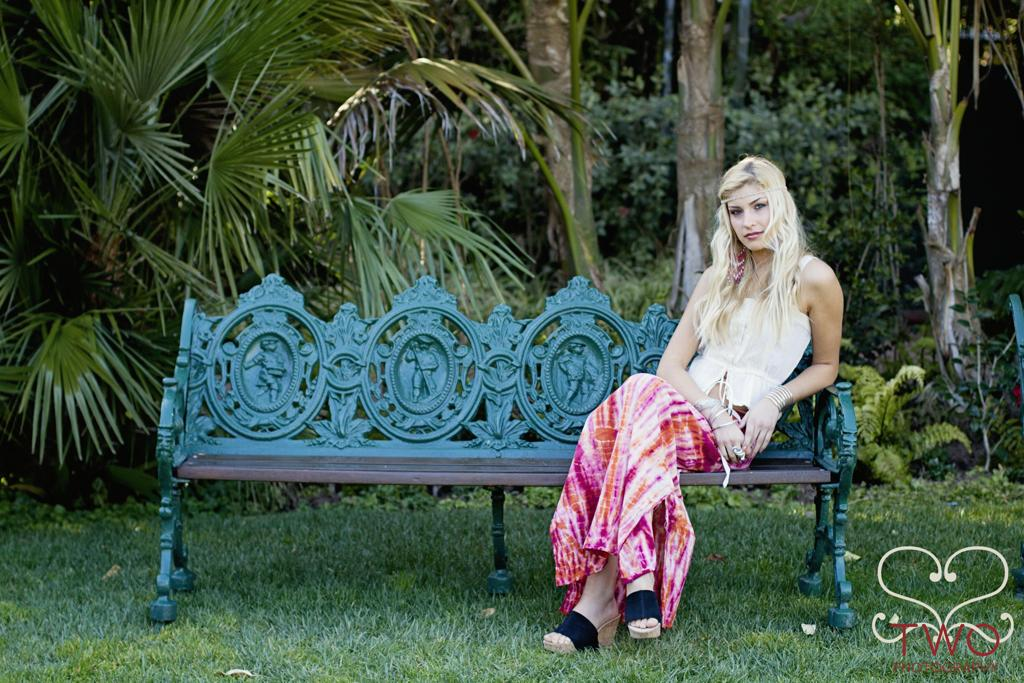face: (724, 184, 784, 252)
